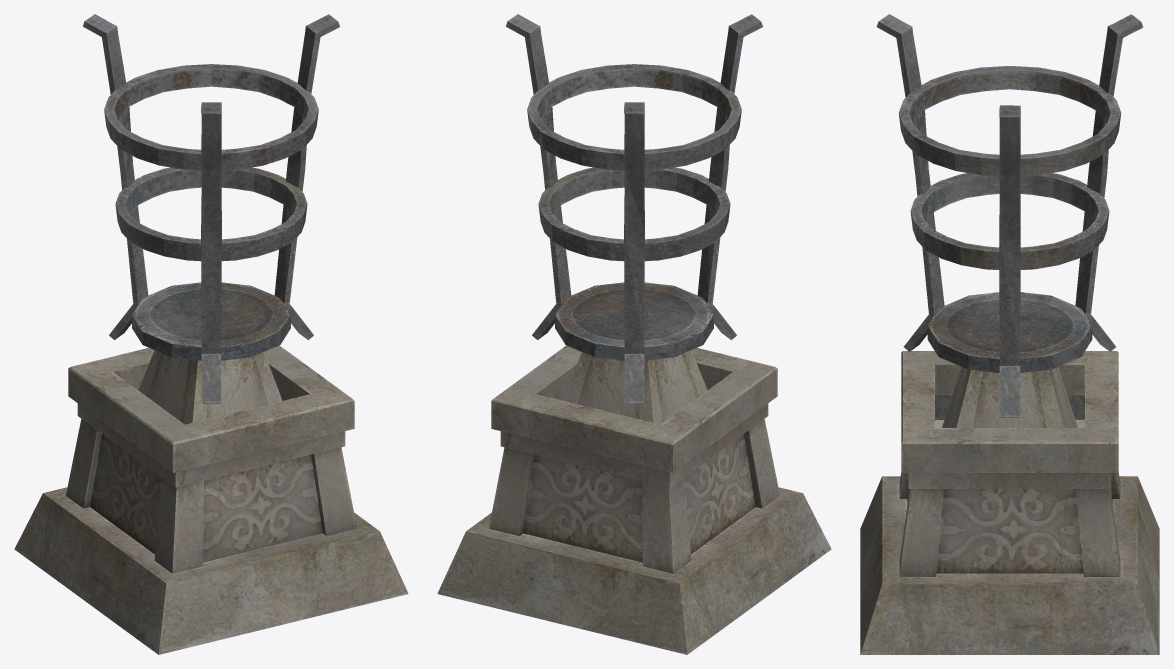
File: bg_lut_memonast_torch01_sm_sup.FBX
The picture shows the model from 3 angles, left to right: view 1: azimuth 30°, elevation 25°; view 2: azimuth 150°, elevation 25°; view 3: azimuth 270°, elevation 25°; orthographic projection. The views are drawn at different scales.
Parts seen in each view (by area): view 1: bg_lut_memonast_torch01_sm_sup; view 2: bg_lut_memonast_torch01_sm_sup; view 3: bg_lut_memonast_torch01_sm_sup.
Boxes of the visible parts, left/top/right/bottom form: bg_lut_memonast_torch01_sm_sup: left=14, top=14, right=408, bottom=654; bg_lut_memonast_torch01_sm_sup: left=437, top=14, right=831, bottom=654; bg_lut_memonast_torch01_sm_sup: left=860, top=14, right=1159, bottom=654.
Bounding box in the file's own units: 60.88 × 122 × 60.88.
